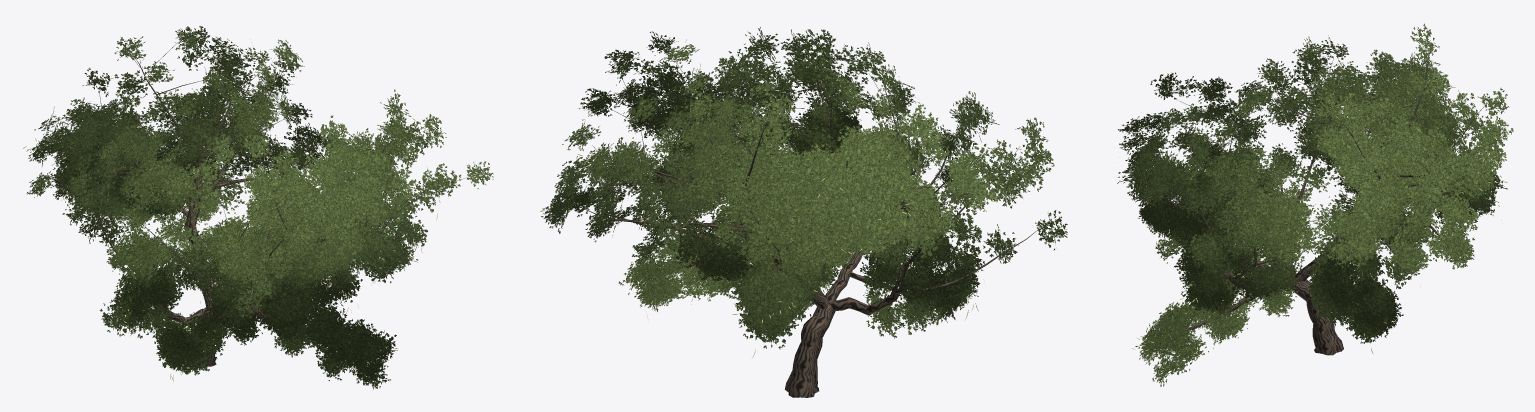
Rendered from adult-c.lod0.glb.
3 views of the same model, side by side, from view 1: azimuth 30°, elevation 25°; view 2: azimuth 150°, elevation 25°; view 3: azimuth 270°, elevation 25° (orthographic). The views are drawn at different scales.
Parts seen in each view (by area): view 1: foliage, bark; view 2: foliage, bark; view 3: foliage, bark.
Boxes of the visible parts, x1=… form: foliage: x1=26, y1=26, x2=493, y2=389; bark: x1=57, y1=43, x2=467, y2=368; foliage: x1=541, y1=27, x2=1067, y2=349; bark: x1=577, y1=52, x2=1037, y2=397; foliage: x1=1117, y1=23, x2=1513, y2=386; bark: x1=1148, y1=52, x2=1492, y2=355.
Bounding box in the file's own units: 10.28 × 7.5 × 8.89.
Materials: 5 (3 with a texture image).
